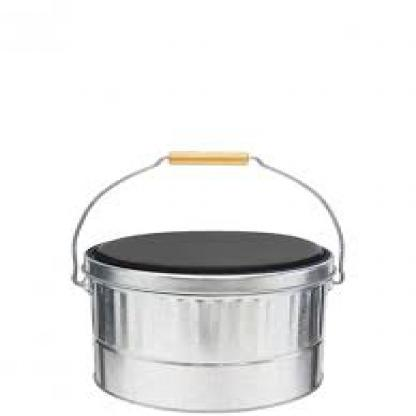METAL: (71, 152, 343, 412)
